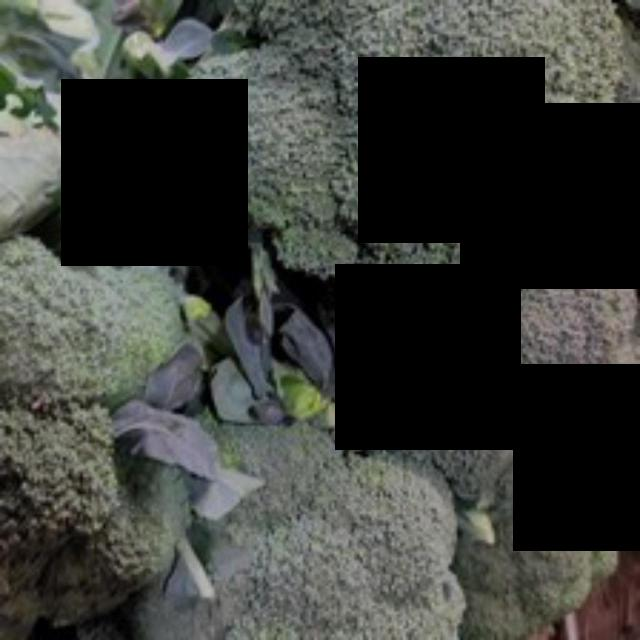broccoli: (183, 0, 637, 346)
